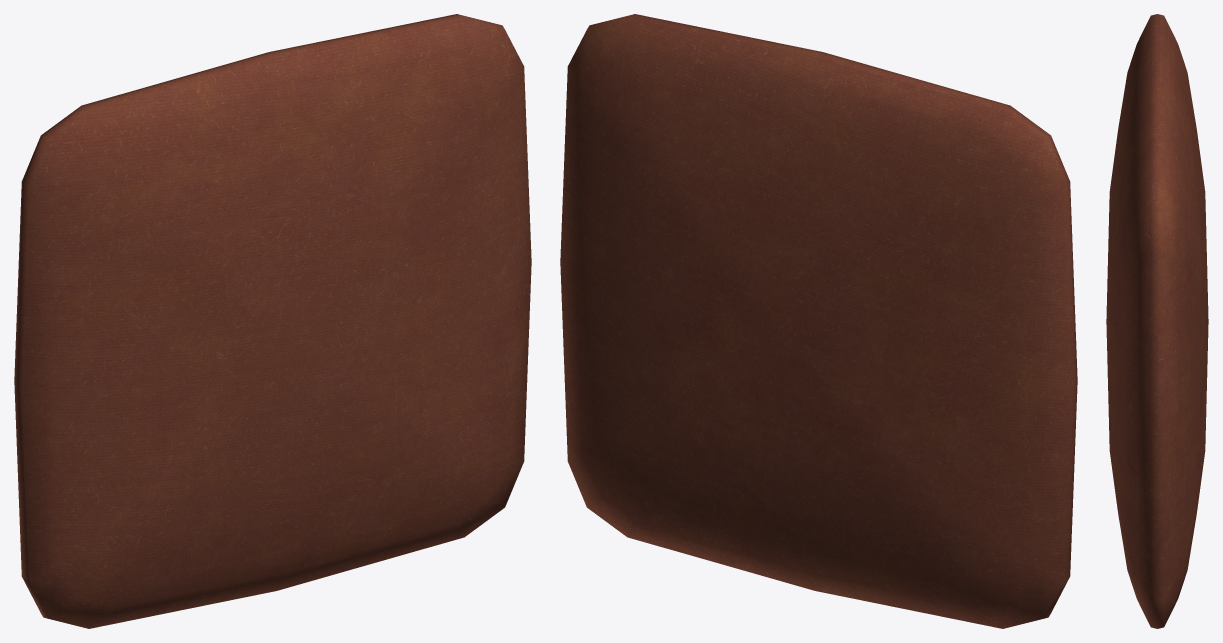
The model's file is Beanbag_Will.obj.
3 views of the same model, side by side, from view 1: azimuth 30°, elevation 25°; view 2: azimuth 150°, elevation 25°; view 3: azimuth 270°, elevation 25° (orthographic). The views are drawn at different scales.
Parts seen in each view (by area): view 1: Circle; view 2: Circle; view 3: Circle.
Part boxes in pixels (x1,y1,x2,y2): Circle: (14,14,531,628); Circle: (560,14,1077,628); Circle: (1106,14,1208,628).
Bounding box in the file's own units: 16.48 × 16.48 × 3.26.
